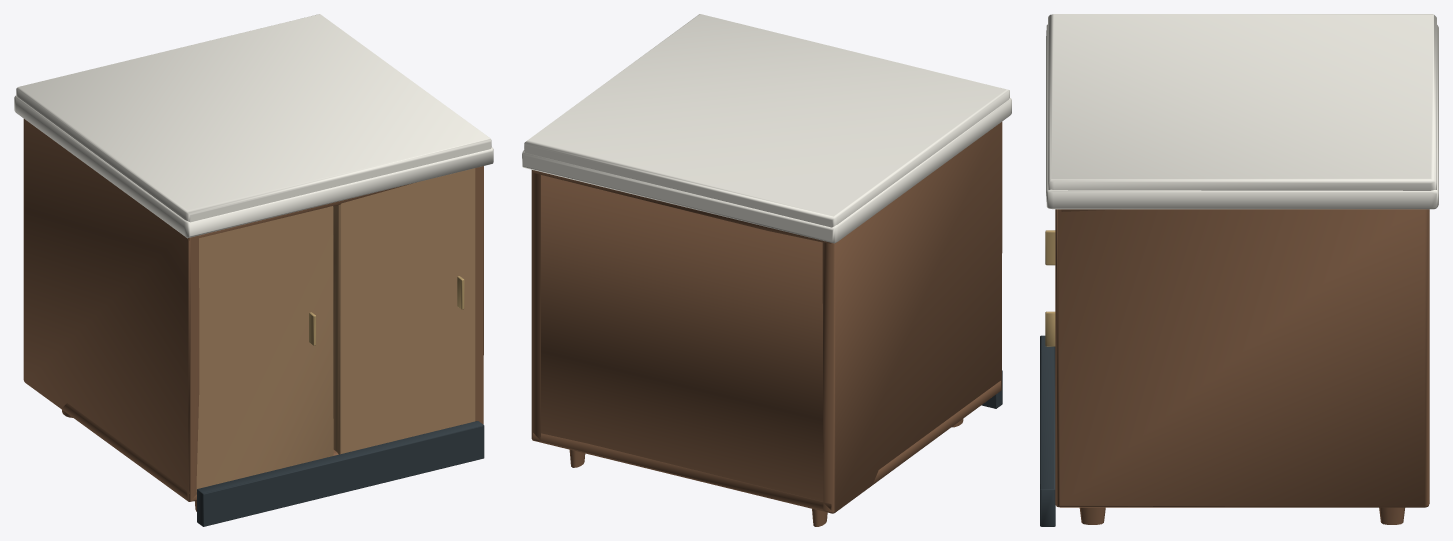
File: cabinet-3-4.lod.glb
3 renders of one model, left to right at view 1: azimuth 30°, elevation 25°; view 2: azimuth 150°, elevation 25°; view 3: azimuth 270°, elevation 25°, orthographic. The views are drawn at different scales.
Visible parts, largest first — view 1: upholstery, worktop, part, kickboard; view 2: part, worktop; view 3: part, worktop, kickboard, upholstery.
Boxes of the visible parts, bbox=[...] form: upholstery: bbox=[196, 168, 475, 491]; worktop: bbox=[14, 14, 493, 238]; part: bbox=[23, 119, 483, 511]; kickboard: bbox=[197, 421, 484, 526]; part: bbox=[531, 122, 1002, 526]; worktop: bbox=[522, 14, 1011, 243]; part: bbox=[1055, 209, 1429, 524]; worktop: bbox=[1046, 14, 1438, 209]; kickboard: bbox=[1040, 335, 1055, 526]; upholstery: bbox=[1045, 230, 1055, 346].
Size of the model in its own units: 1 by 1 by 1.
